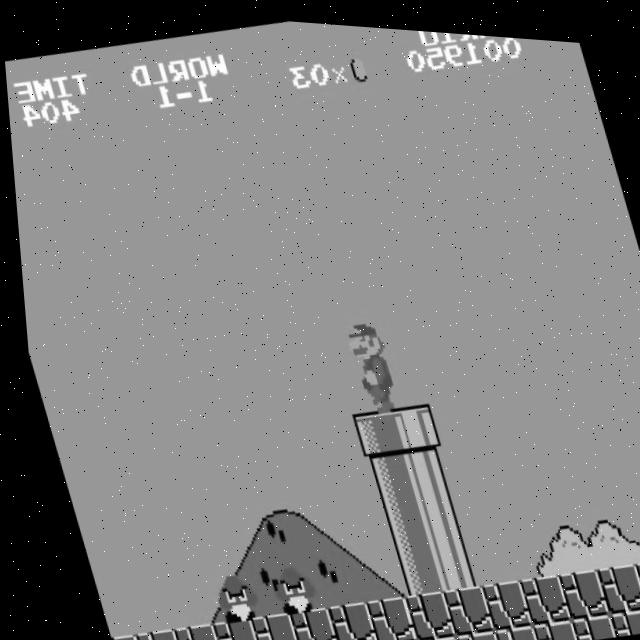0- big_mario: (334, 307, 402, 412)
14- pipe: (368, 491, 422, 548), (407, 484, 460, 541), (381, 536, 434, 593), (419, 530, 472, 586), (356, 446, 409, 502), (395, 439, 447, 495)
15- pipe_head: (343, 400, 397, 457), (382, 394, 435, 451)
17- undestructible_block: (547, 557, 601, 614), (431, 575, 485, 632), (586, 551, 639, 608), (509, 563, 562, 620), (470, 569, 523, 626), (393, 581, 446, 638), (354, 588, 408, 640), (315, 593, 369, 640), (277, 599, 330, 640), (238, 605, 291, 640), (560, 602, 607, 636), (200, 611, 252, 640), (521, 609, 568, 640), (598, 596, 640, 630), (483, 614, 530, 640), (161, 617, 213, 640), (624, 544, 640, 601), (444, 621, 491, 640), (123, 623, 174, 640), (405, 626, 452, 640), (366, 632, 413, 640), (99, 630, 135, 640), (637, 590, 640, 623), (328, 639, 374, 640)
8- goomba: (258, 554, 313, 615), (201, 564, 256, 624)
